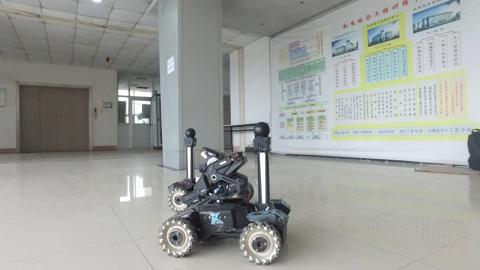chariot: (152, 123, 300, 258), (165, 125, 252, 208)
